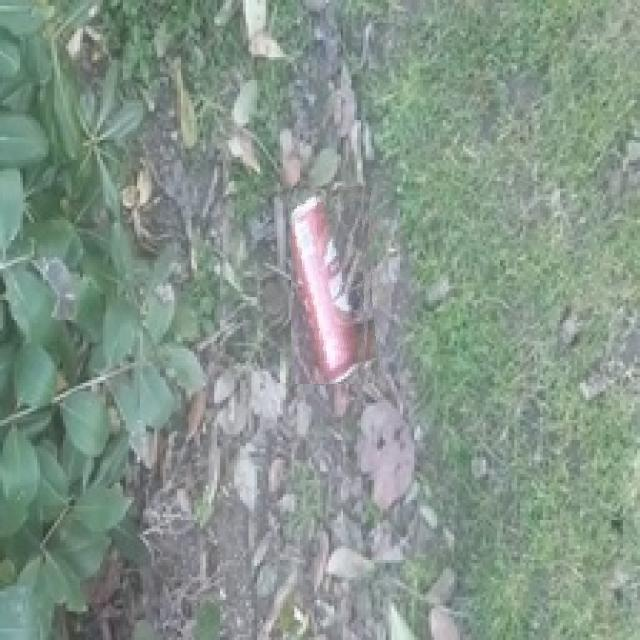recyclable: (292, 186, 378, 384)
